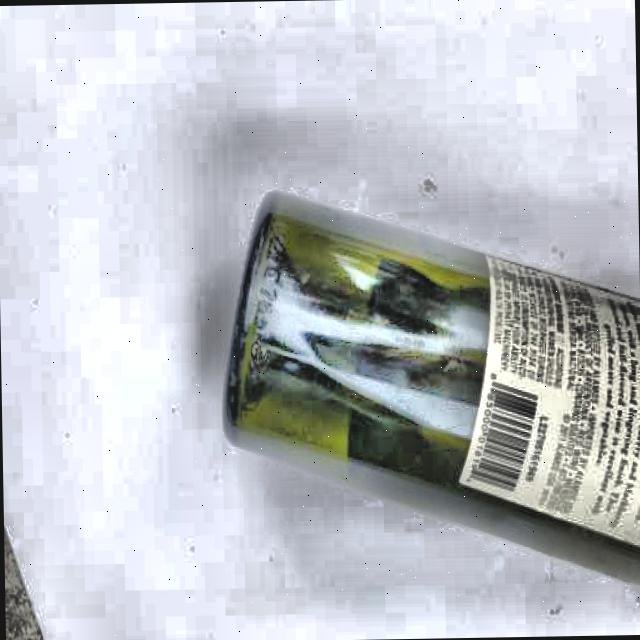glass: (214, 177, 640, 559)
